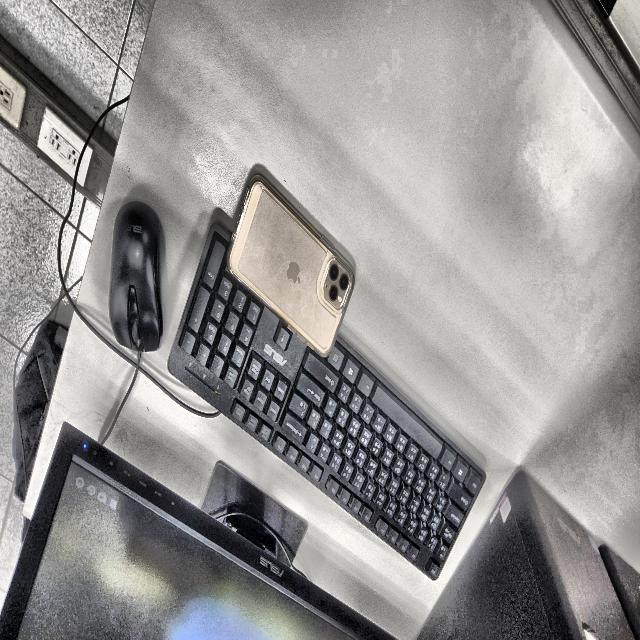Keyboard: (167, 222, 485, 580)
MOUSE: (109, 202, 164, 351)
PHONE: (228, 175, 354, 355)
Screen: (0, 424, 391, 640)
